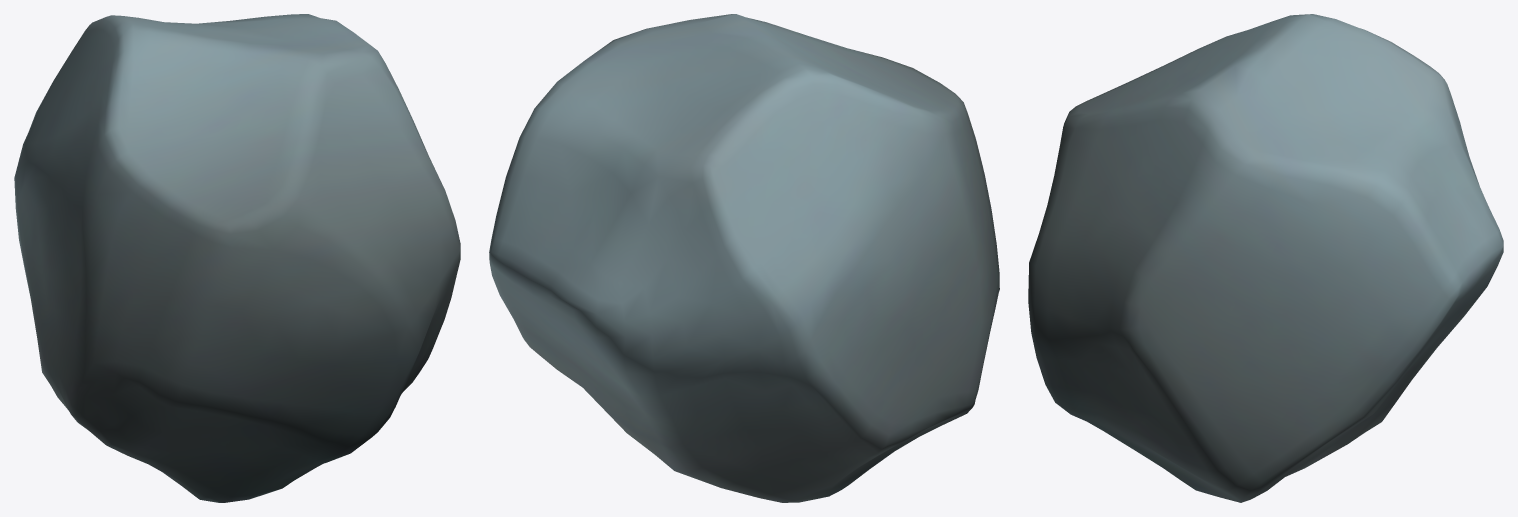
The model's file is Stone.fbx.
The picture shows the model from 3 angles, left to right: view 1: azimuth 30°, elevation 25°; view 2: azimuth 150°, elevation 25°; view 3: azimuth 270°, elevation 25°; orthographic projection. The views are drawn at different scales.
Parts seen in each view (by area): view 1: Stone; view 2: Stone; view 3: Stone.
Boxes of the visible parts, bbox=[...] form: Stone: bbox=[14, 14, 460, 502]; Stone: bbox=[489, 14, 999, 502]; Stone: bbox=[1028, 14, 1503, 502].
Size of the model in its own units: 4.39 by 4.98 by 4.94.
Materials: 1 (1 with a texture image).
